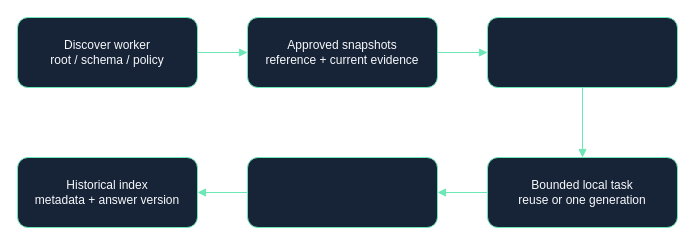
Some shapes in this 695 by 245 pixel diagram are drawn without their labels. Here are the shapes that lost their labels. From the top down, the centre of each, then its label:
At point 582,52: "Offline plan review request + pinned hashes".
At point 342,192: "Check, then review length / paragraphs / facts".
